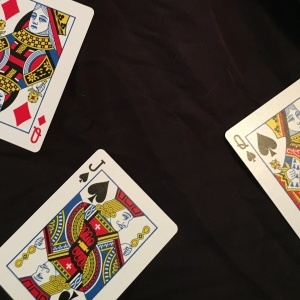card: (224, 78, 299, 222)
